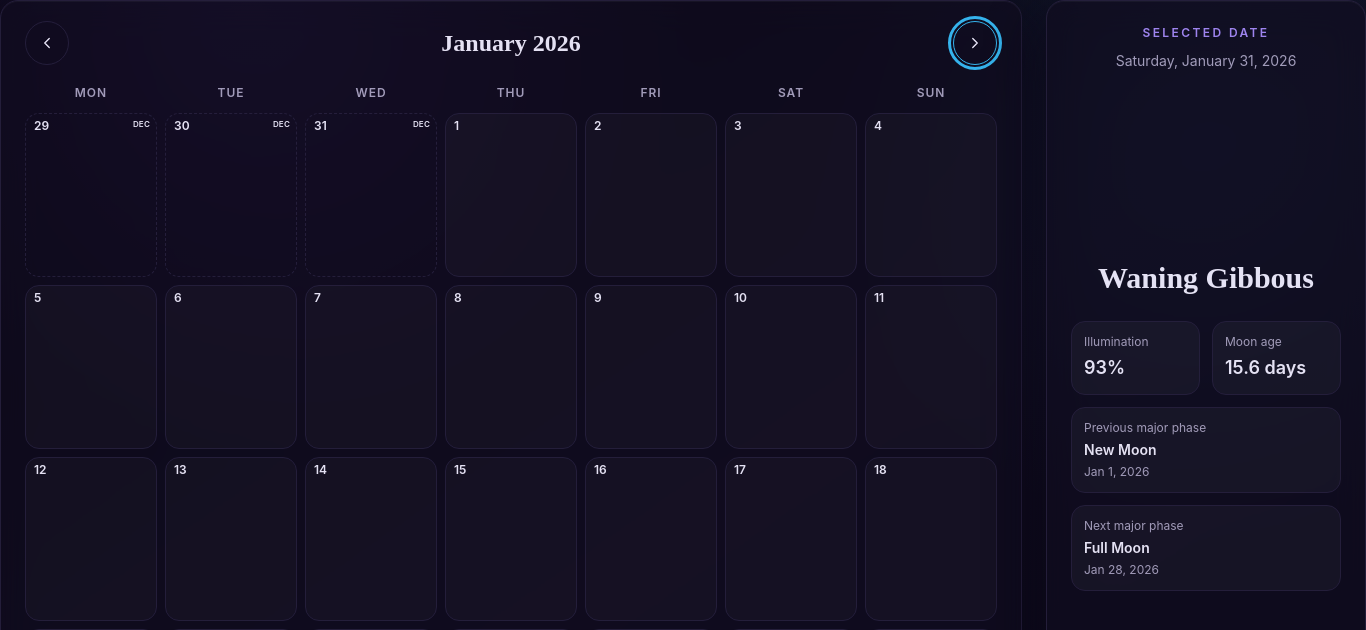
it: month navigation and selection › moves backward and forward while preserving the selected date and header focus
Click the button named "Show next month".
click(975, 43)  # box 953,21 -> 997,65
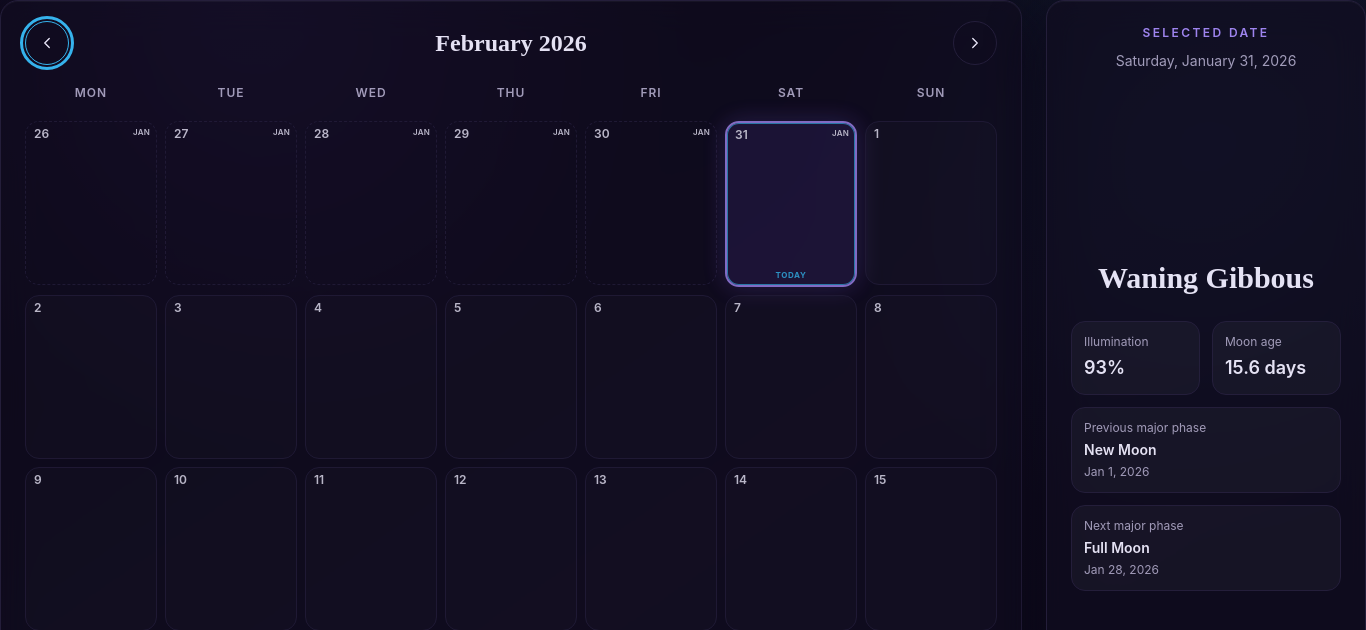
Expected: the text "Saturday, January 31, 2026" is shown, 1116,49 -> 1296,73
Result: the heading "February 2026" is shown at 435,28 -> 587,58
Click the button named "Show previous month".
click(47, 43)  # box 25,21 -> 69,65
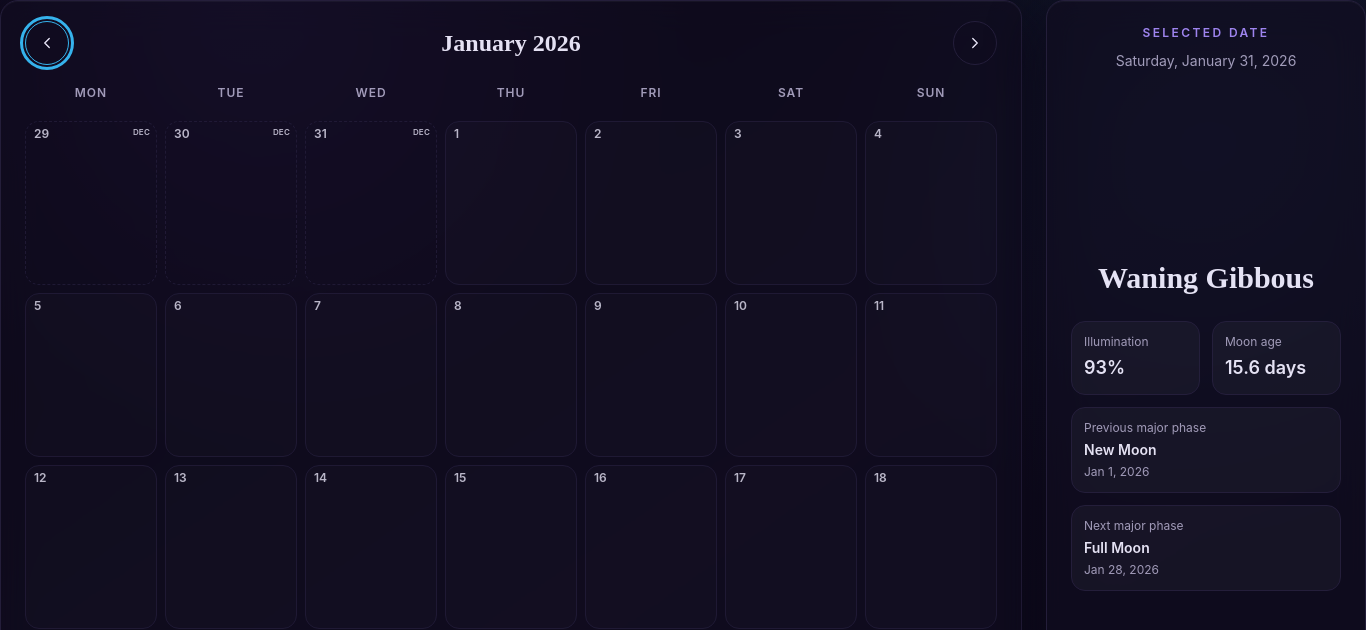
Expected: the text "Saturday, January 31, 2026" is shown, 1116,49 -> 1296,73
Result: the heading "January 2026" is shown at 441,28 -> 581,58
